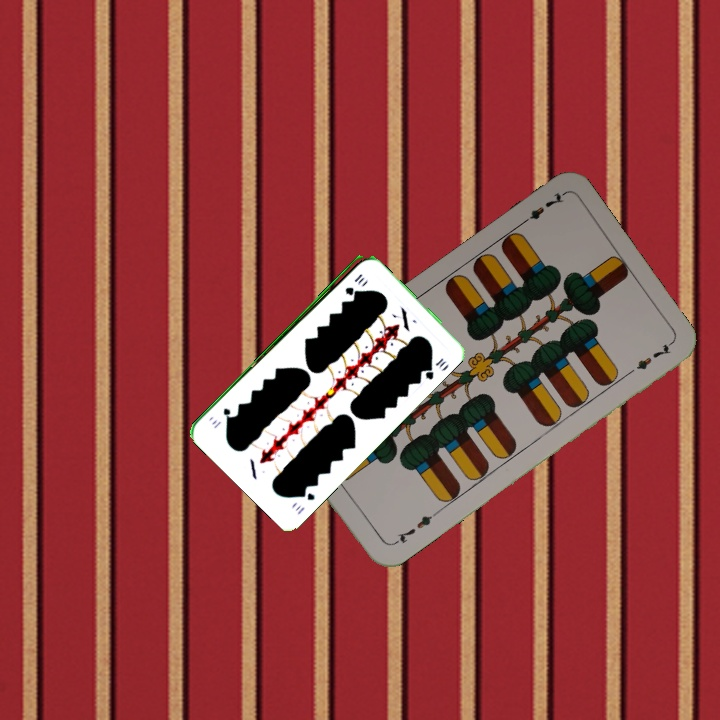E7: (515, 188, 567, 229), (387, 509, 439, 549)
G10: (291, 487, 317, 517), (341, 270, 365, 297)
